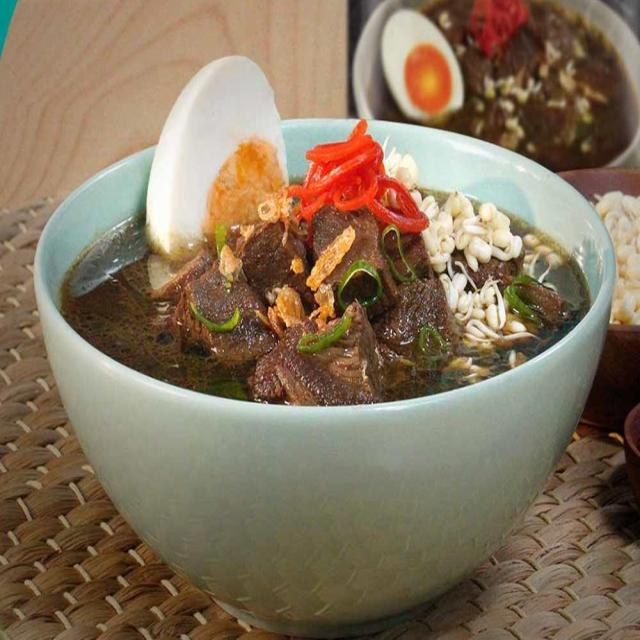Rawon: (87, 140, 580, 416), (388, 3, 618, 160)
